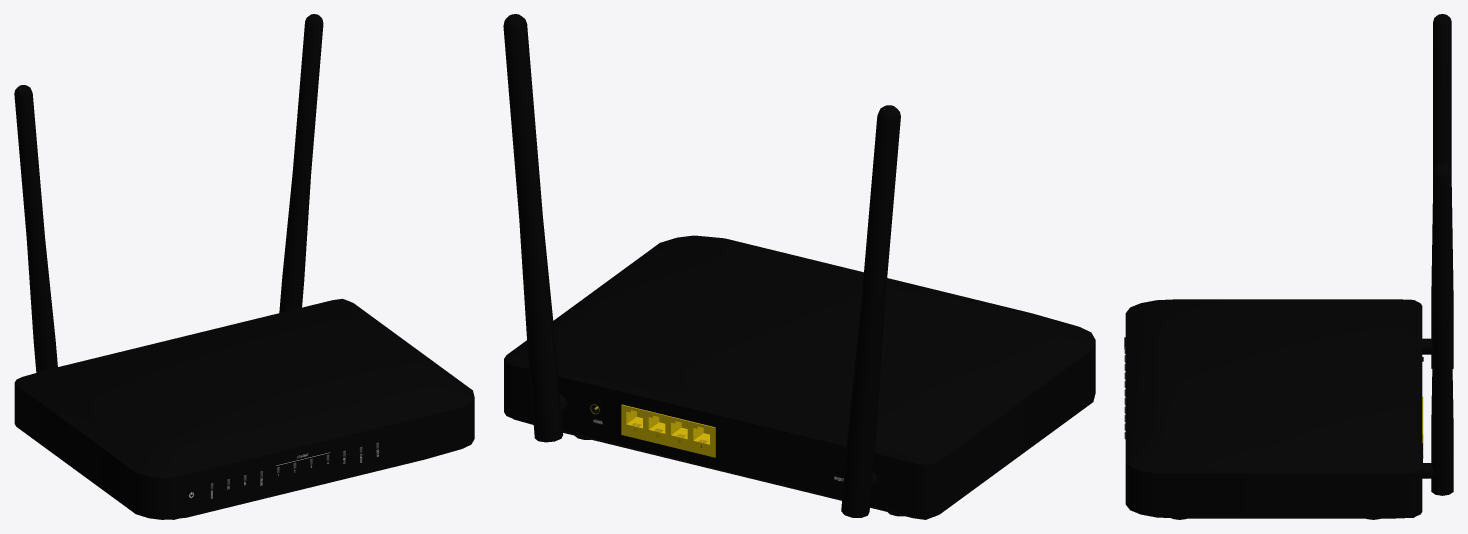
File: RouterMine.glb
3 renders of one model, left to right at view 1: azimuth 30°, elevation 25°; view 2: azimuth 150°, elevation 25°; view 3: azimuth 270°, elevation 25°, orthographic. The views are drawn at different scales.
Parts seen in each view (by area): view 1: Router; view 2: Router; view 3: Router.
Part boxes in pixels (x1,y1,x2,y2): Router: (14,14,474,519); Router: (503,14,1095,519); Router: (1124,14,1453,519).
Size of the model in its own units: 0.9943 by 0.9695 by 0.7977.
Materials: 1 (1 with a texture image).
